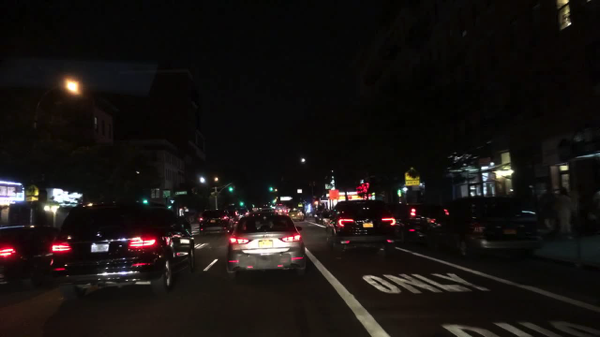car: (53, 201, 195, 304), (447, 195, 542, 257), (226, 215, 306, 284), (327, 199, 396, 257), (0, 225, 60, 288), (393, 203, 449, 242), (198, 208, 236, 237), (226, 208, 244, 223), (249, 208, 279, 217), (287, 208, 305, 222), (314, 208, 328, 223), (322, 210, 332, 226), (274, 206, 288, 215), (252, 207, 273, 213), (240, 210, 250, 217)
person: (557, 187, 575, 237), (540, 183, 556, 233)
traffic light: (142, 197, 148, 205), (229, 184, 233, 192), (269, 186, 273, 192), (240, 201, 244, 207), (272, 199, 275, 206)
traffic sign: (404, 168, 421, 187), (27, 184, 39, 202), (329, 190, 339, 198), (174, 191, 187, 196), (324, 183, 333, 190), (163, 191, 171, 198), (279, 197, 291, 201), (296, 188, 303, 194), (298, 202, 303, 208)
